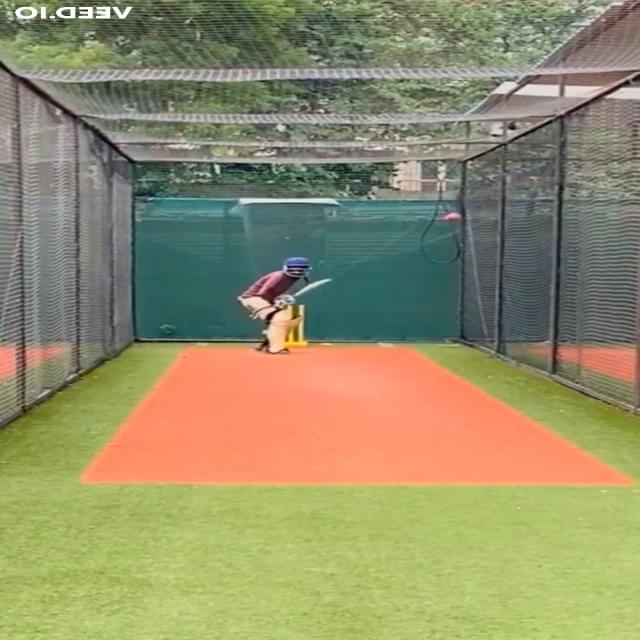ball: (444, 212, 464, 224)
stump: (286, 303, 306, 349)
